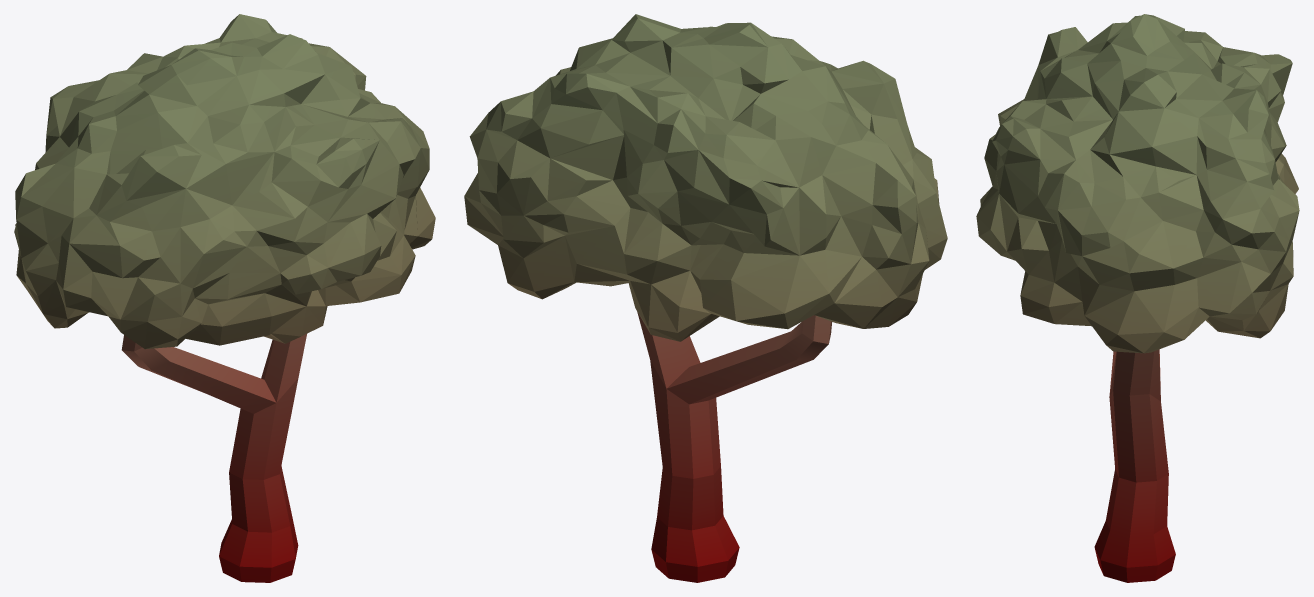
Rendered from synty-tree-round-05.gltf.
3 views of the same model, side by side, from view 1: azimuth 30°, elevation 25°; view 2: azimuth 150°, elevation 25°; view 3: azimuth 270°, elevation 25° (orthographic). The views are drawn at different scales.
Parts seen in each view (by area): view 1: SM_Tree_Round_05; view 2: SM_Tree_Round_05; view 3: SM_Tree_Round_05.
Part boxes in pixels (x1,y1,x2,y2): SM_Tree_Round_05: [14, 14, 435, 582]; SM_Tree_Round_05: [464, 14, 947, 582]; SM_Tree_Round_05: [976, 14, 1299, 582].
Size of the model in its own units: 3.8 by 4.85 by 2.65.
Materials: 1 (1 with a texture image).
